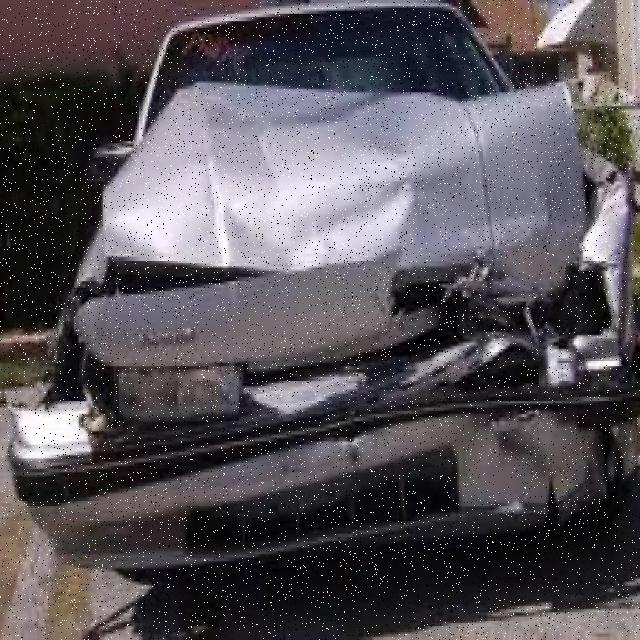damage: (17, 77, 636, 572)
